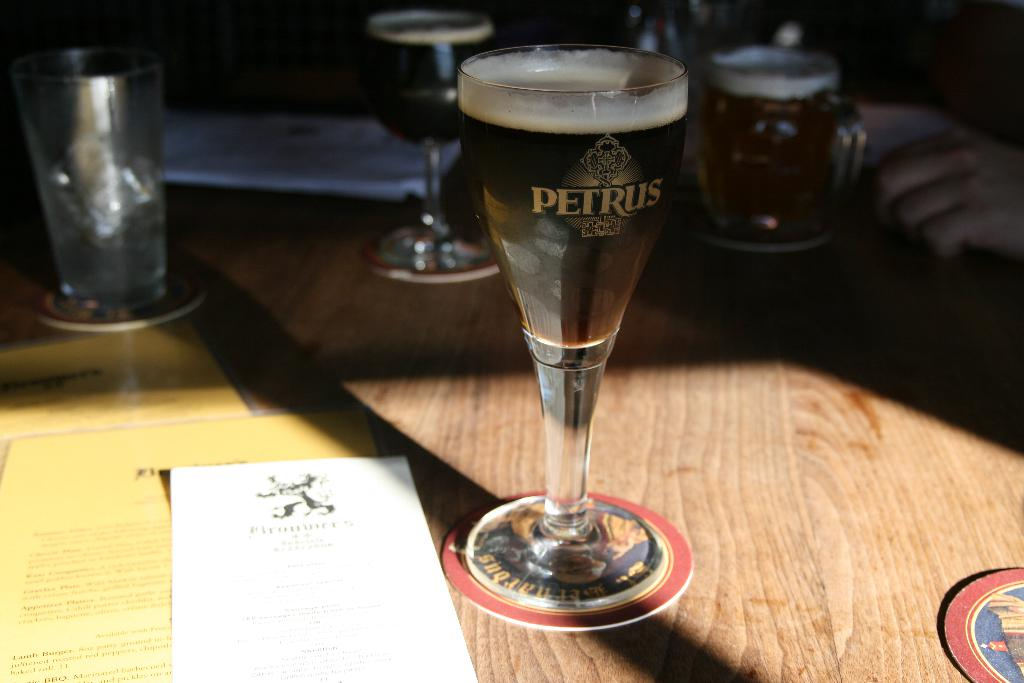Beer: (430, 39, 712, 645), (345, 0, 515, 301), (697, 10, 872, 274)
